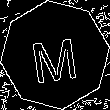M_N: (29, 27, 81, 83)
